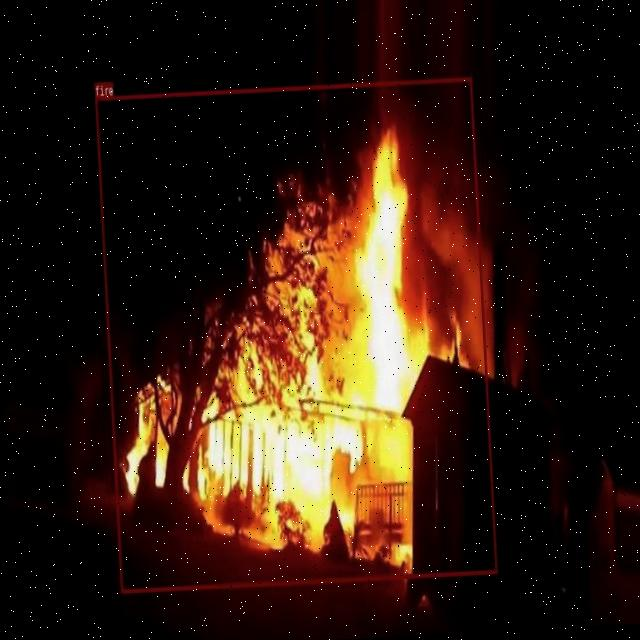fire: (94, 77, 497, 592)
